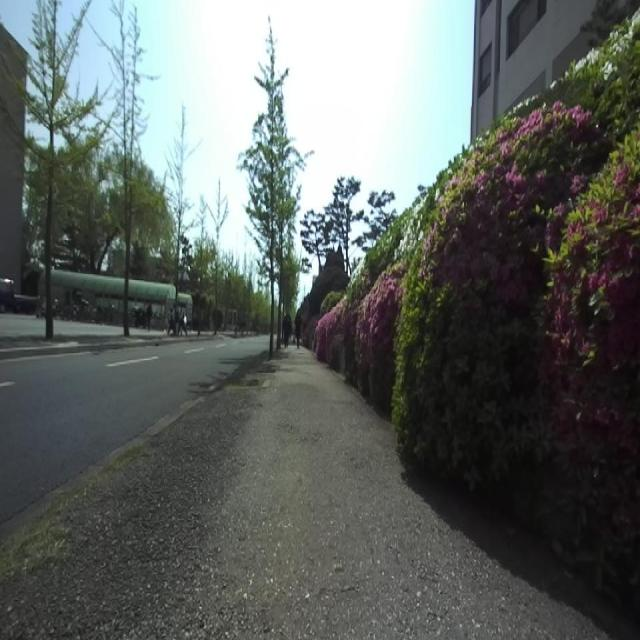sidewalk: (0, 345, 640, 639)
